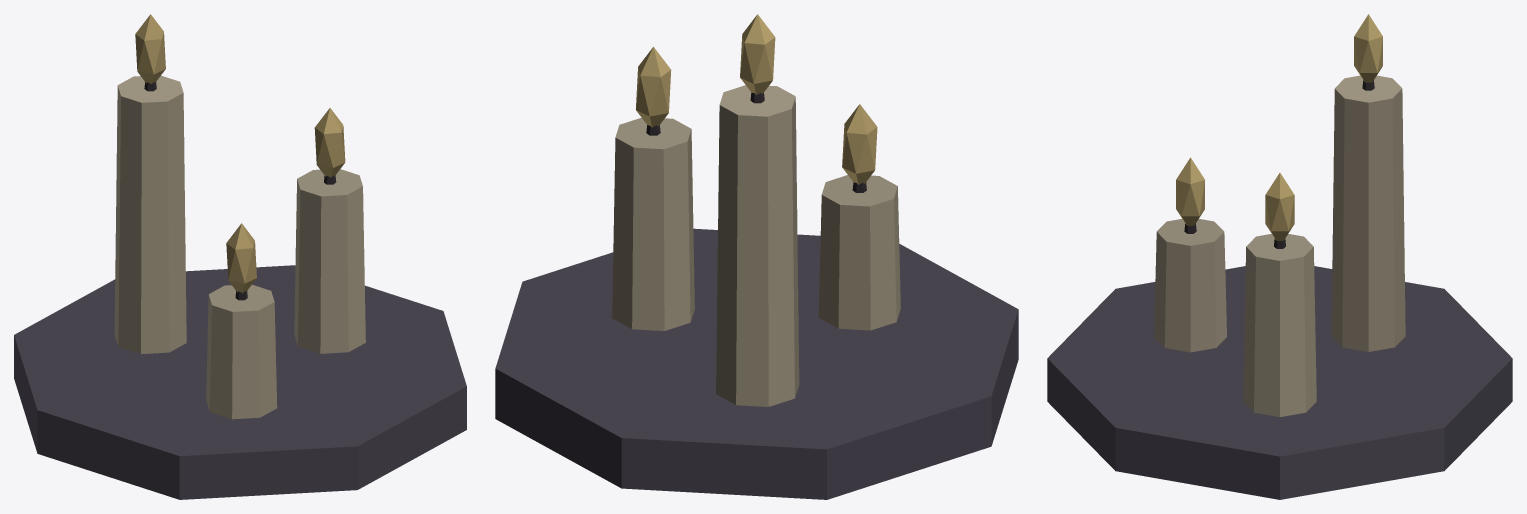
Rendered from tower-candles.glb.
The picture shows the model from 3 angles, left to right: view 1: azimuth 30°, elevation 25°; view 2: azimuth 150°, elevation 25°; view 3: azimuth 270°, elevation 25°; orthographic projection. The views are drawn at different scales.
Visible parts, largest first — view 1: tower-candles; view 2: tower-candles; view 3: tower-candles.
Part boxes in pixels (bbox=[...]): tower-candles: bbox=[14, 14, 466, 499]; tower-candles: bbox=[495, 14, 1018, 499]; tower-candles: bbox=[1047, 14, 1512, 499].
Size of the model in its own units: 0.68 by 0.59 by 0.68.
